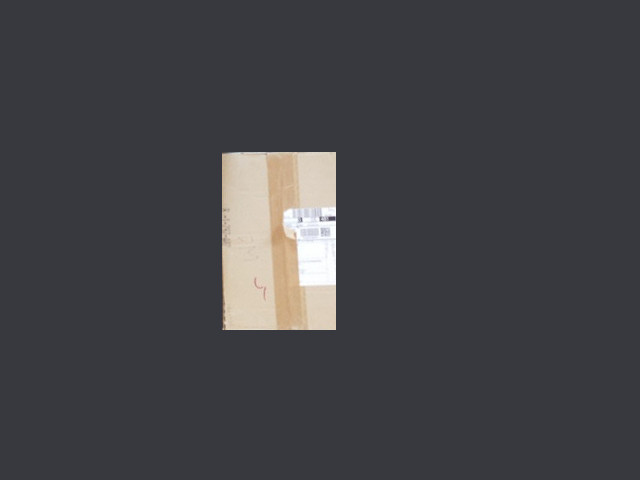cardboard: (223, 152, 336, 329)
